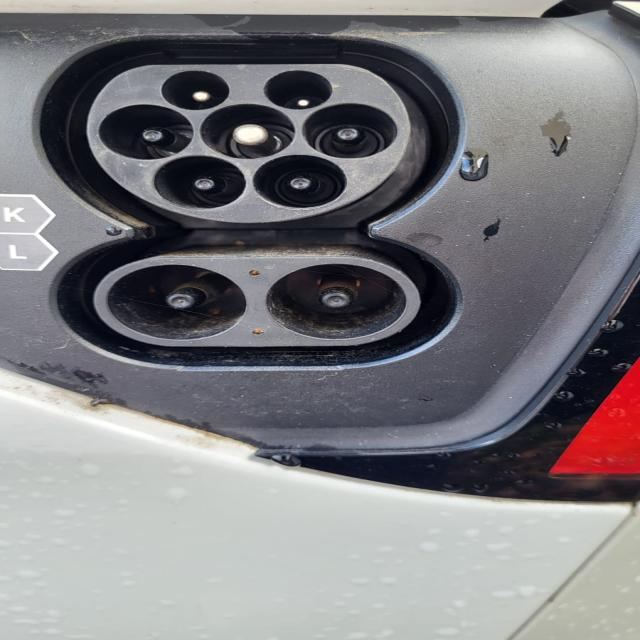inlet: (87, 64, 411, 223)
inlet-above-left: (162, 70, 230, 110)
inlet-above-right: (263, 69, 333, 110)
inlet-below-left: (152, 155, 246, 210)
inlet-below-right: (254, 154, 348, 208)
inlet-circle: (200, 103, 297, 159)
inlet-circle-left: (98, 103, 194, 160)
inlet-circle-right: (301, 102, 398, 158)
inlet-minus: (267, 263, 406, 340)
inlet-plus: (106, 264, 247, 340)
